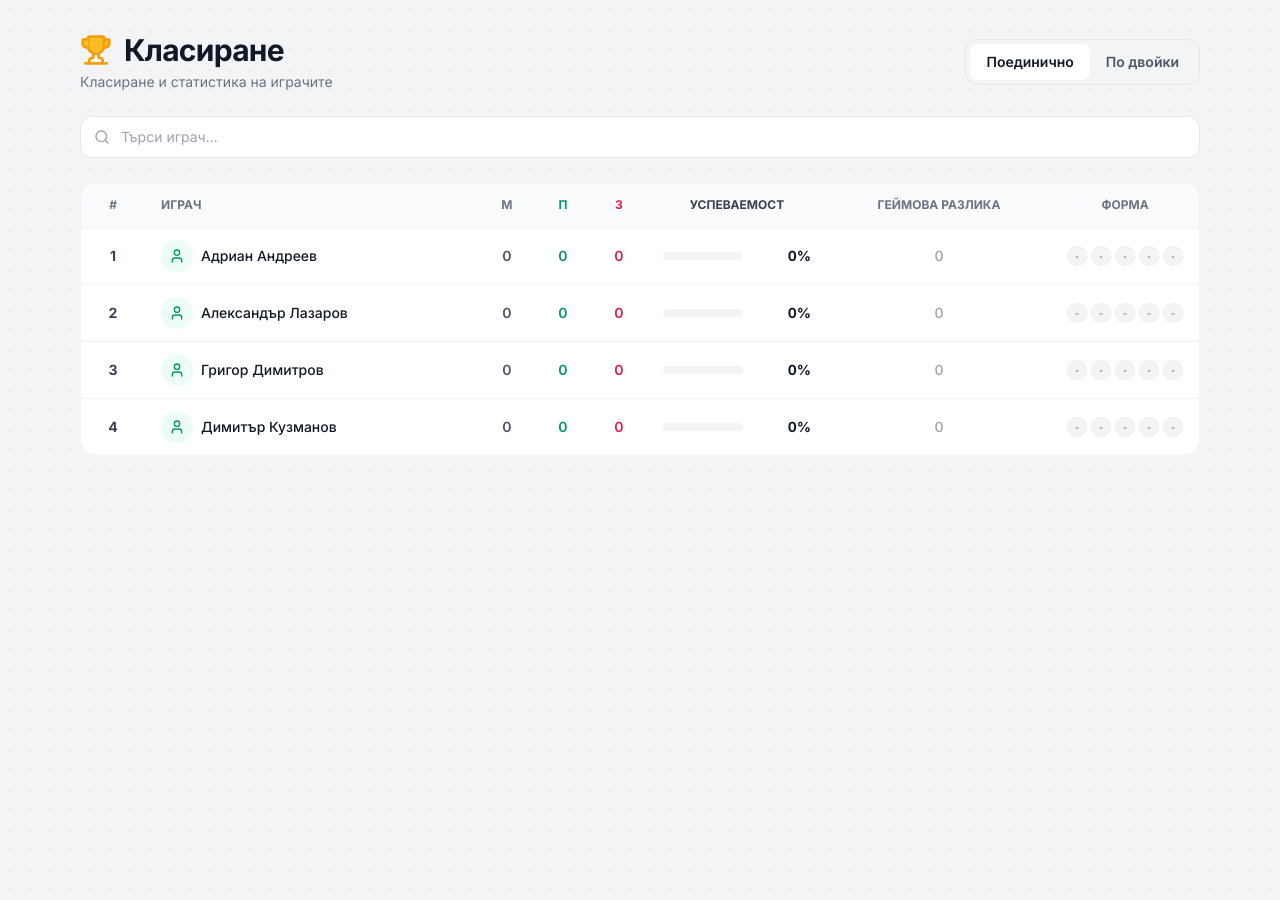
RankingsPage Component › displays empty state when no player matches search query
Expected: the table is shown, [81,183,1199,455]
Type "Несъществуващ" into the field named "Търсене на играч" at (640, 137), box [80,116,1200,158]
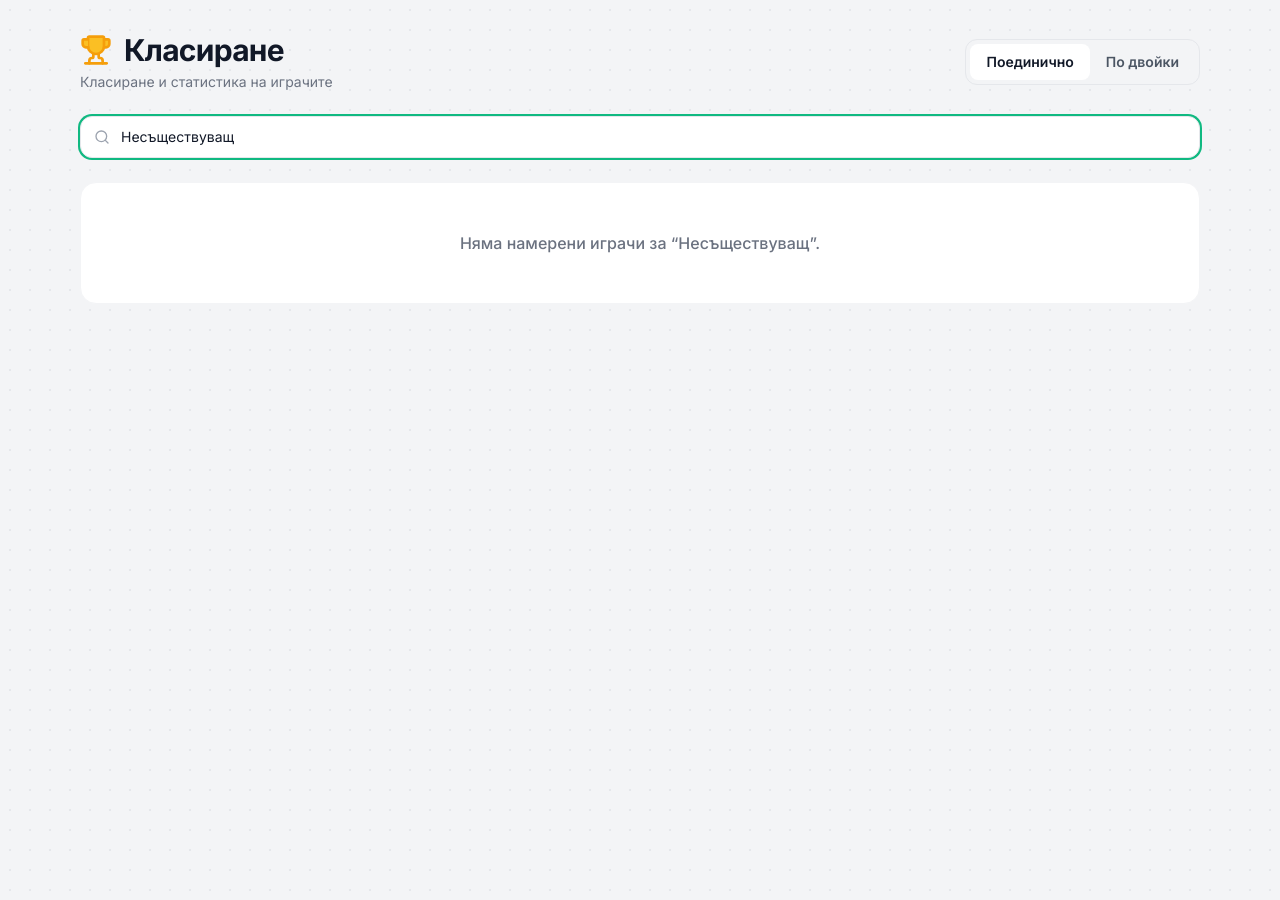
Result: the text "Няма намерени играчи за “Несъществуващ”." is shown at [460,233,820,253]
